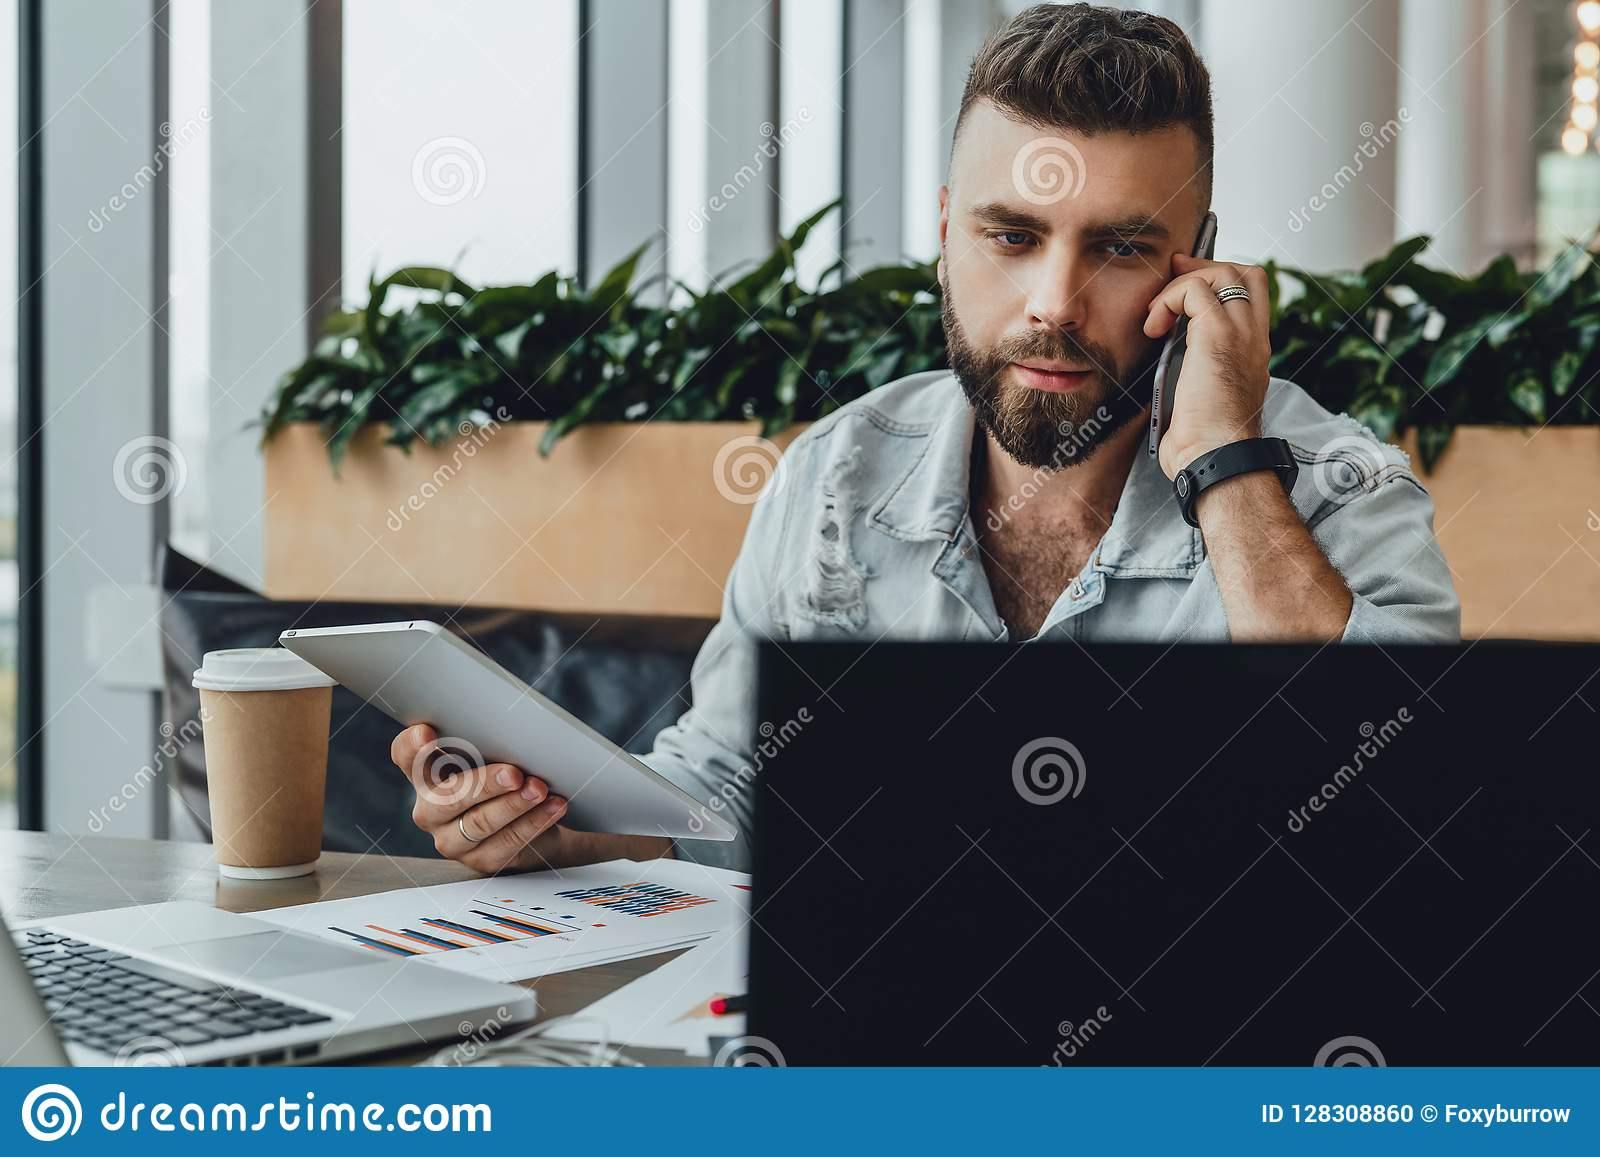phone: (1147, 210, 1220, 464)
talk: (953, 186, 1275, 488)
